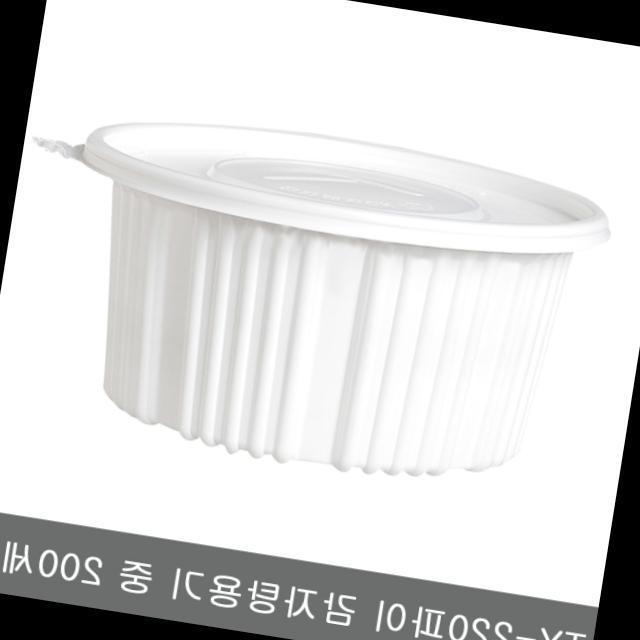disposable: (19, 76, 632, 508)
